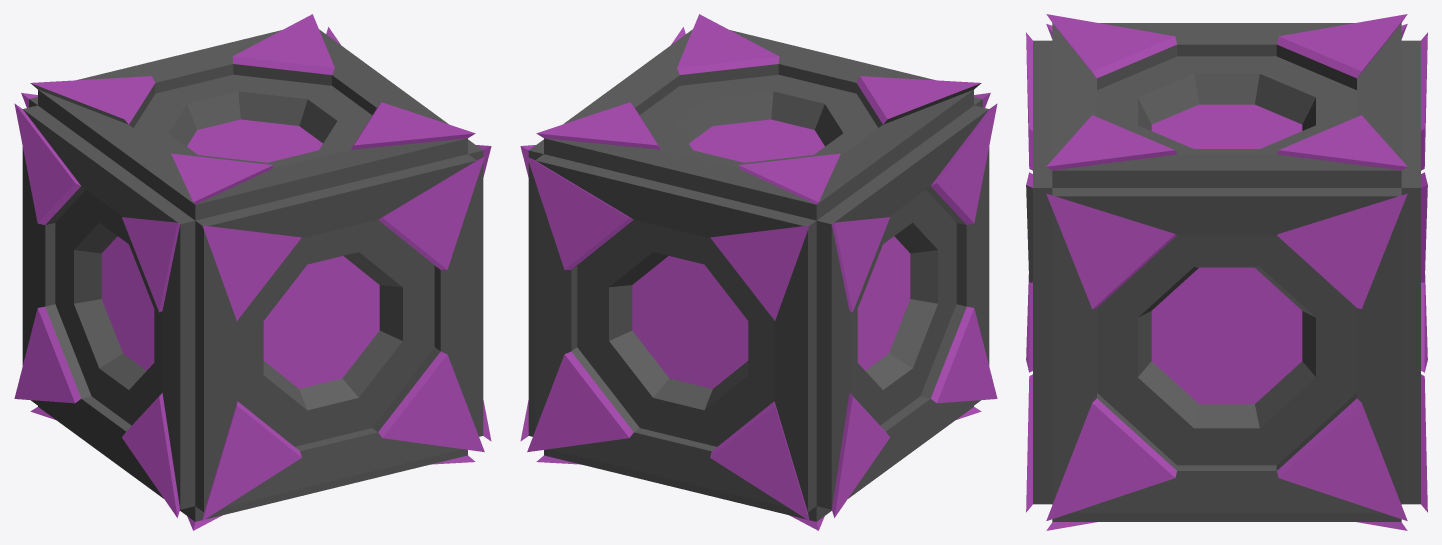
The model's file is light_box.glb.
The picture shows the model from 3 angles, left to right: view 1: azimuth 30°, elevation 25°; view 2: azimuth 150°, elevation 25°; view 3: azimuth 270°, elevation 25°; orthographic projection. The views are drawn at different scales.
Visible parts, largest first — view 1: light_box_mesh; view 2: light_box_mesh; view 3: light_box_mesh.
Part boxes in pixels (x1,y1,x2,y2): light_box_mesh: (14, 14, 491, 530); light_box_mesh: (520, 14, 997, 530); light_box_mesh: (1026, 14, 1427, 530).
Size of what is drawn, in the model's own units: 2.07 by 2.07 by 2.07.
